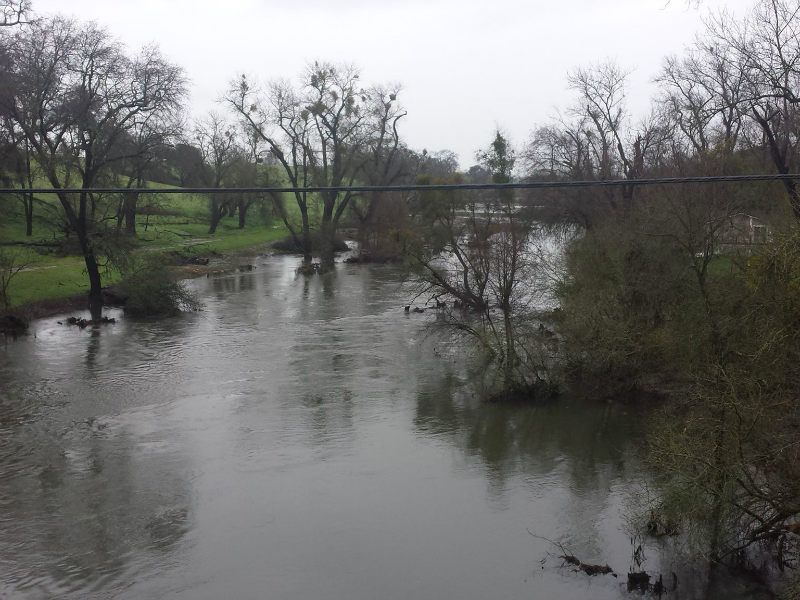tree: (1, 20, 163, 325), (228, 61, 422, 274), (192, 121, 236, 232), (478, 123, 519, 202)
water: (3, 340, 457, 600), (431, 391, 639, 600), (191, 273, 402, 343)
